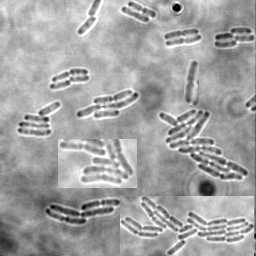Dividing: (184, 59, 199, 105), (52, 67, 89, 81), (128, 1, 157, 18), (166, 34, 202, 47), (164, 28, 200, 39)
Microcolony: (120, 196, 254, 256), (158, 109, 249, 180), (58, 139, 137, 188), (76, 88, 139, 119), (45, 199, 120, 224), (18, 101, 61, 136), (214, 27, 255, 48)
Rod: (121, 5, 150, 23), (78, 16, 99, 34), (50, 79, 72, 89), (69, 73, 90, 82)
